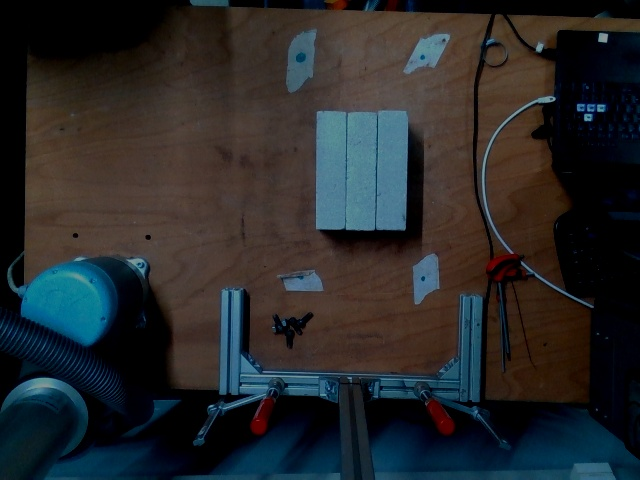brick-side: (345, 113, 375, 229), (378, 110, 407, 229), (317, 111, 344, 227)
